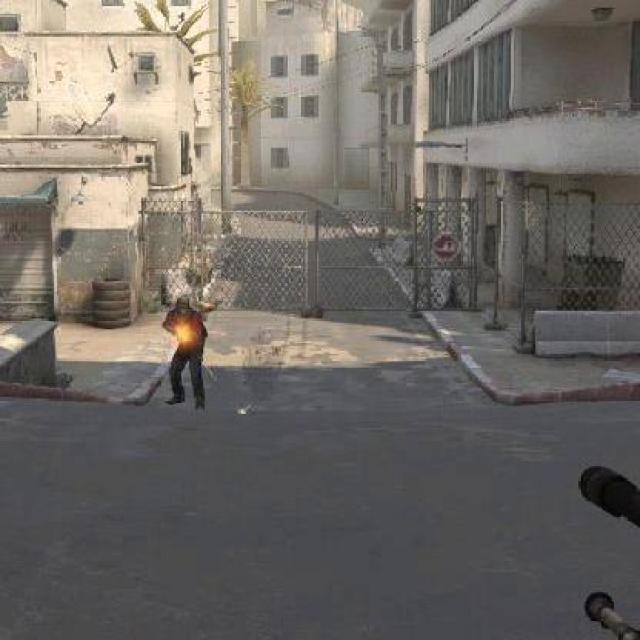Dead: (172, 292, 194, 312)
T-Body: (152, 292, 220, 414)
